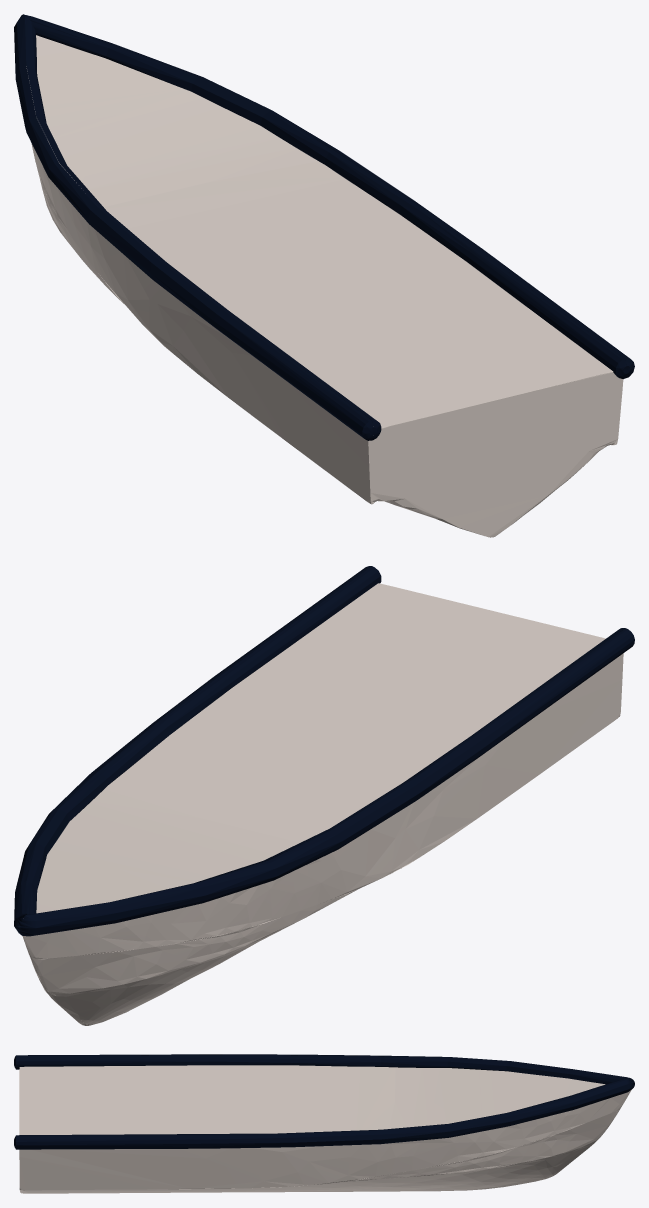
File: Bagian_Bawah_Kapal.fbx
3 renders of one model, top to bottom at view 1: azimuth 30°, elevation 25°; view 2: azimuth 150°, elevation 25°; view 3: azimuth 270°, elevation 25°, orthographic. The views are drawn at different scales.
Visible parts, largest first — view 1: Bagian Bawah Kapal; view 2: Bagian Bawah Kapal; view 3: Bagian Bawah Kapal.
Boxes of the visible parts, x1=… form: Bagian Bawah Kapal: x1=14, y1=14, x2=634, y2=537; Bagian Bawah Kapal: x1=14, y1=566, x2=634, y2=1025; Bagian Bawah Kapal: x1=14, y1=1054, x2=634, y2=1193.
Size of the model in its own units: 663 by 416 by 2022.
